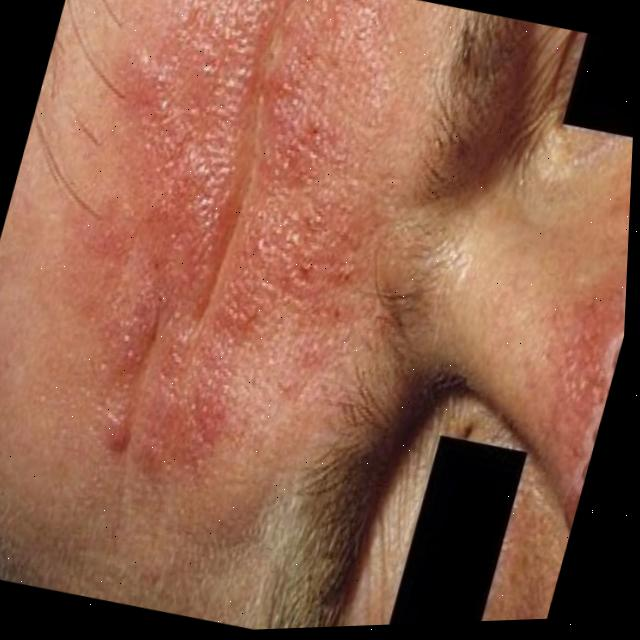Rosacea: (33, 0, 404, 495)
